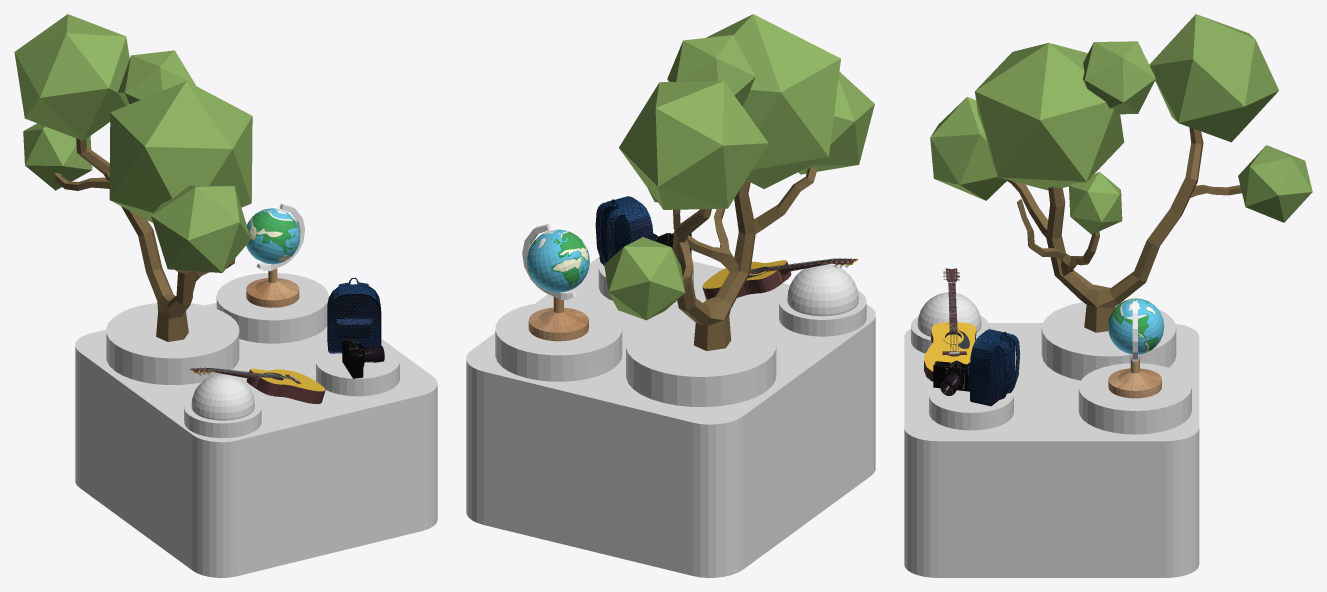
Rendered from travel-model3-tree-thef.glb.
3 views of the same model, side by side, from view 1: azimuth 30°, elevation 25°; view 2: azimuth 150°, elevation 25°; view 3: azimuth 270°, elevation 25° (orthographic). The views are drawn at different scales.
Parts seen in each view (by area): view 1: Cube, Guitar_Cylinder_002_Material_017; view 2: Cube, Guitar_Cylinder_002_Material_017; view 3: Cube, Guitar_Cylinder_002_Material_017.
Boxes of the visible parts, bbox=[...] form: Cube: bbox=[14, 14, 437, 577]; Guitar_Cylinder_002_Material_017: bbox=[189, 367, 325, 403]; Cube: bbox=[466, 14, 875, 577]; Guitar_Cylinder_002_Material_017: bbox=[702, 258, 858, 299]; Cube: bbox=[904, 14, 1312, 577]; Guitar_Cylinder_002_Material_017: bbox=[924, 268, 976, 381].
Size of the model in its own units: 11.69 by 18.22 by 15.1.
15 materials, 6 textured.
